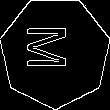M_E: (31, 29, 79, 75)
